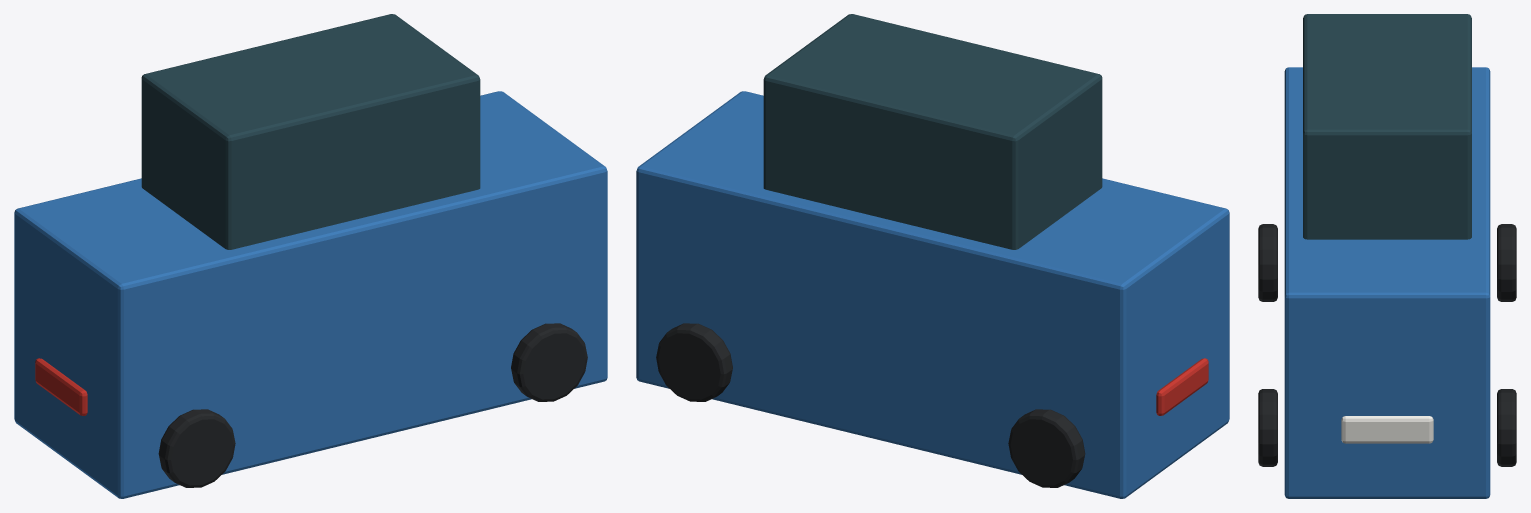
File: Vehicle_006.glb
3 views of the same model, side by side, from view 1: azimuth 30°, elevation 25°; view 2: azimuth 150°, elevation 25°; view 3: azimuth 270°, elevation 25° (orthographic). The views are drawn at different scales.
Visible parts, largest first — view 1: Vehicle_006; view 2: Vehicle_006; view 3: Vehicle_006.
Boxes of the visible parts, <box> form: Vehicle_006: <box>14,14,607,498</box>; Vehicle_006: <box>636,14,1229,498</box>; Vehicle_006: <box>1258,14,1516,498</box>.
Size of the model in its own units: 5.18 by 3.2 by 2.38.
